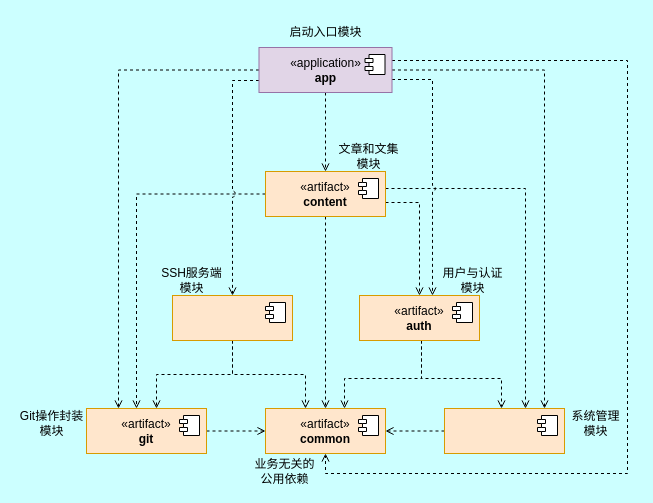
Some shapes in this 653 by 503 pixel diagram are drawn without their labels. The shapes that lost their labels are listed below. From the top down, each one's centre as x and y in pixels, then its label:
At (232,317): "«artifact» ssh".
At (504,431): "«artifact» system".
